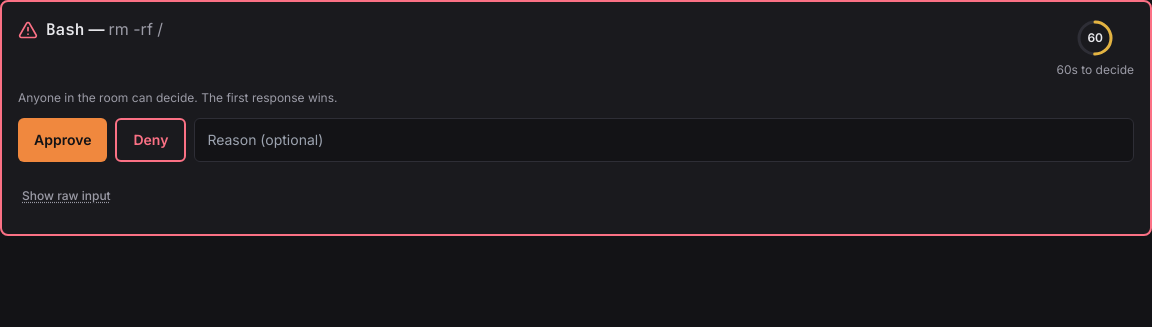
Test: ApprovalPrompt › keeps the raw input hidden until the disclosure is opened
Expected: the text "\"command\"" is not shown
Click the button "Show raw input" at (66, 196), box x1=18 y1=174 x2=115 y2=218
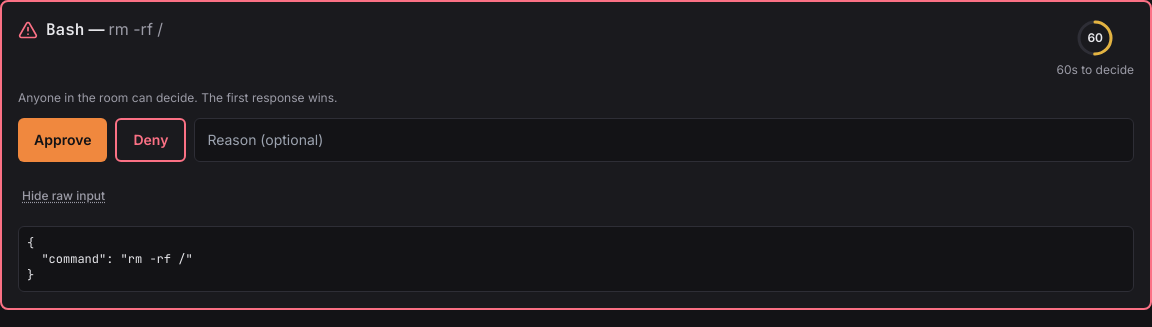
Now the text "{ \"command\": \"rm -rf /\" }" is shown, box x1=18 y1=226 x2=1134 y2=292
Click the button "Hide raw input" at (64, 196), box x1=18 y1=174 x2=109 y2=218
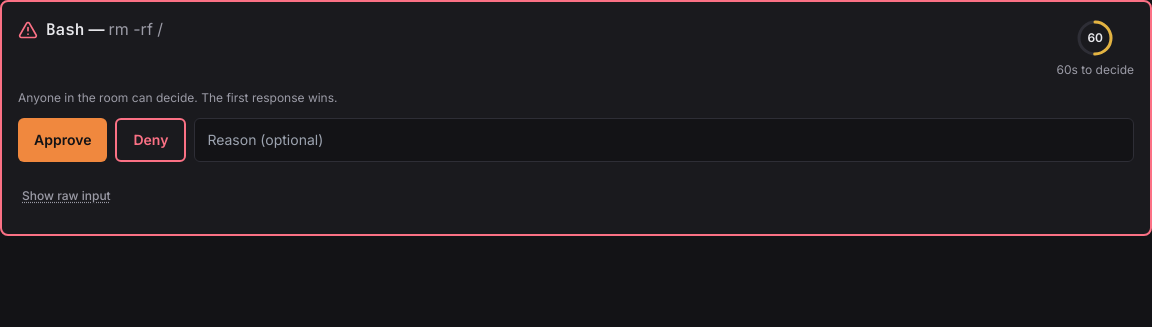
Now the text "\"command\"" is gone
